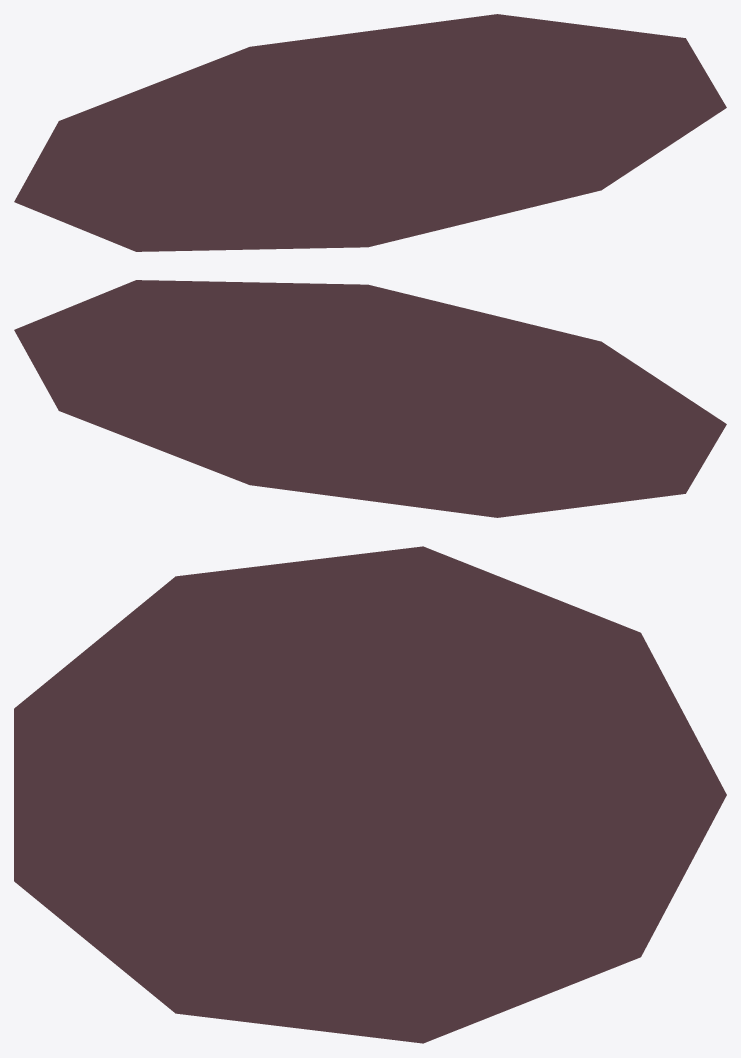
File: pg_soilpatch.fbx
The picture shows the model from 3 angles, top to bottom: view 1: azimuth 30°, elevation 25°; view 2: azimuth 150°, elevation 25°; view 3: azimuth 270°, elevation 25°; orthographic projection. The views are drawn at different scales.
Visible parts, largest first — view 1: GEO-PG_SoilPatch; view 2: GEO-PG_SoilPatch; view 3: GEO-PG_SoilPatch.
Part boxes in pixels (x1,y1,x2,y2): GEO-PG_SoilPatch: (14,14,726,251); GEO-PG_SoilPatch: (14,280,726,517); GEO-PG_SoilPatch: (14,546,726,1043).
Bounding box in the file's own units: 256 × 2.53e-05 × 155.
